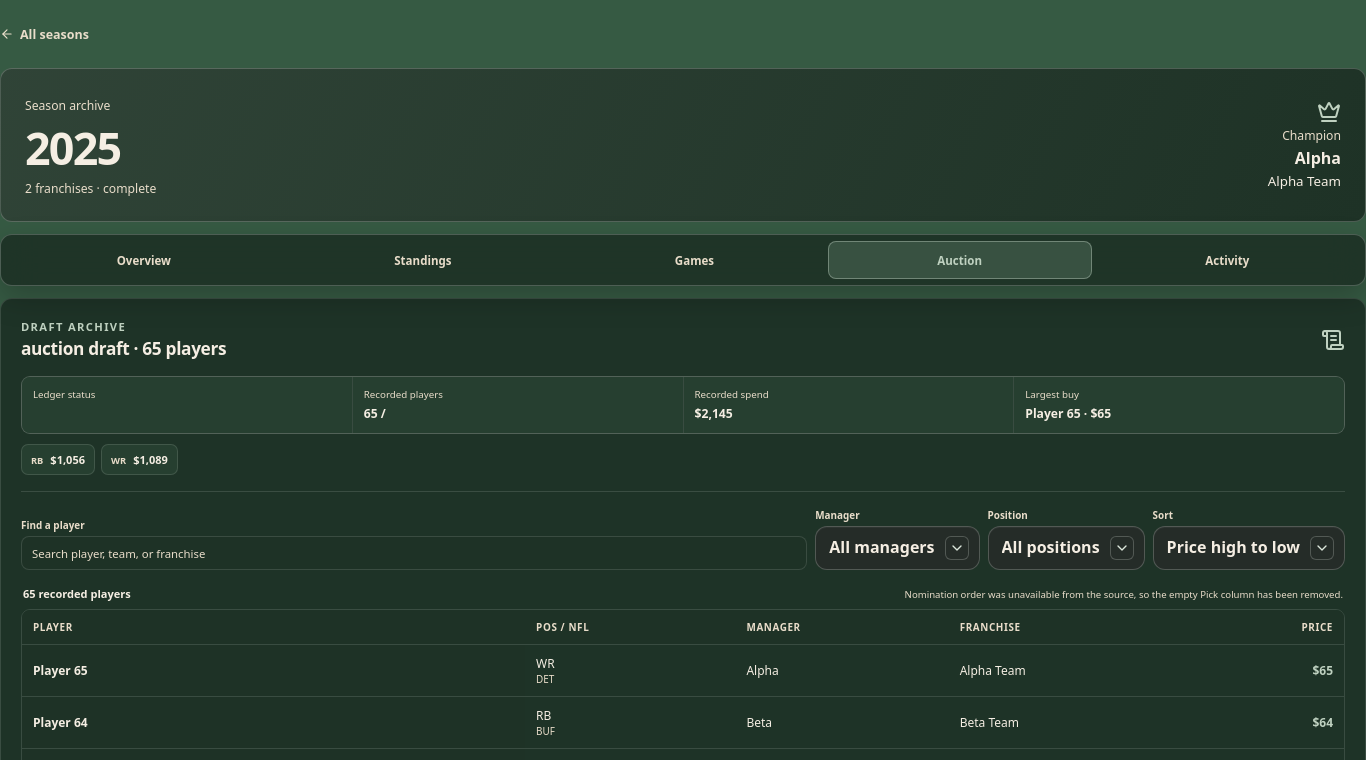
Test case: SeasonArchivePage › renders every recorded auction player and defaults to price descending
expect the text "65 recorded players" is shown: met, box [23, 586, 131, 601]
expect the row "Player 65 WR DET Alpha Alpha Team $65" is shown: met, box [22, 644, 1344, 696]
Step 1. Type "Player 65" into the search field with placeholder "Search player, team, or franchise" → (414, 553), box [21, 536, 807, 570]
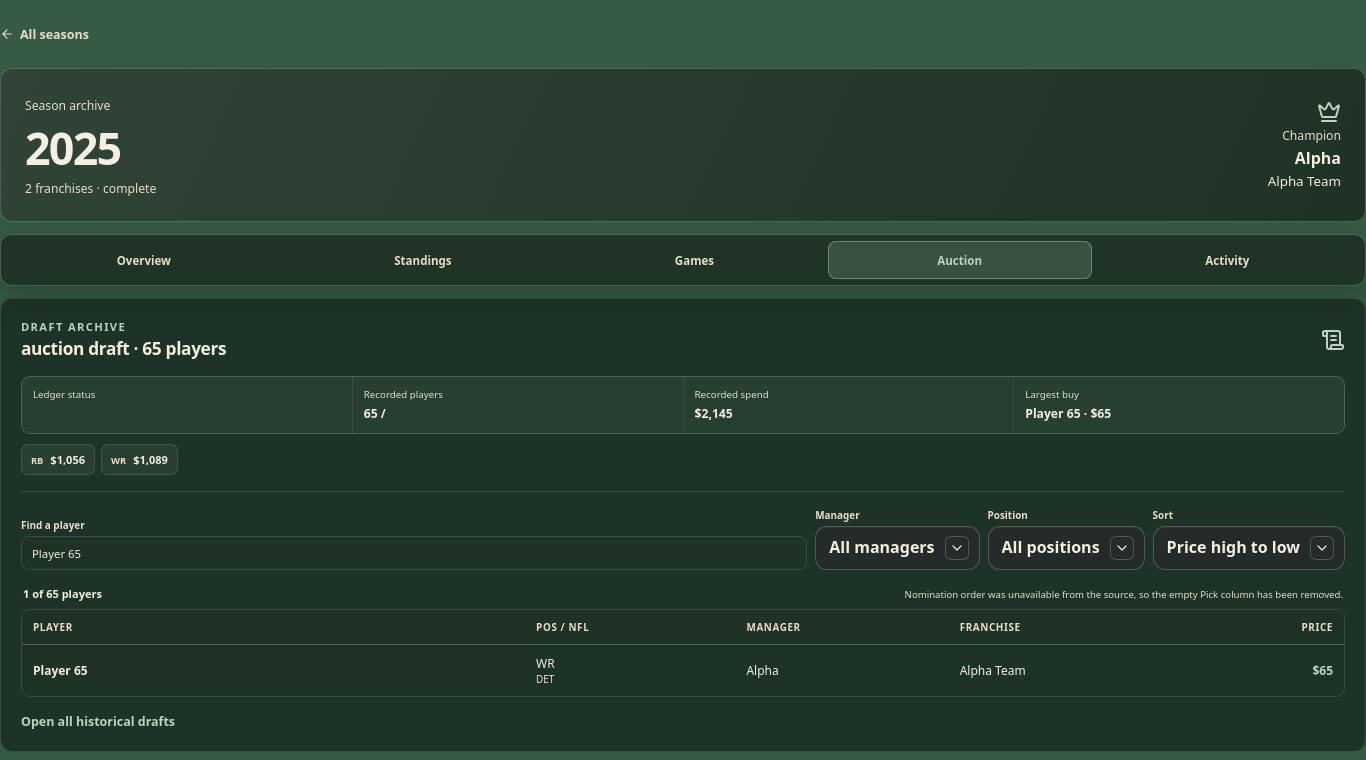
expect the text "1 of 65 players" is shown: met, box [23, 586, 102, 601]
